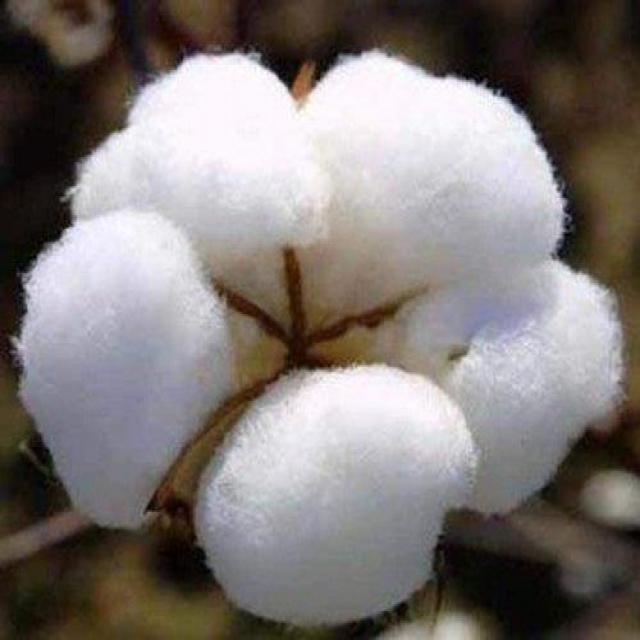Leaf: (9, 42, 640, 640)
